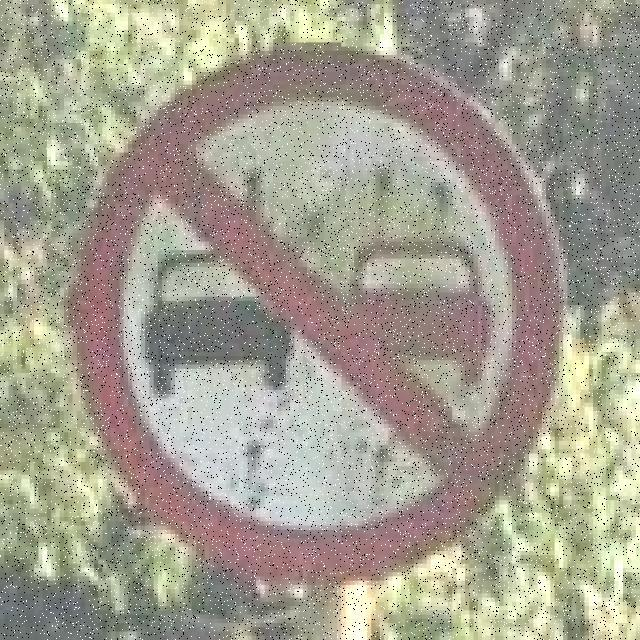Don-t-Overtracking: (53, 24, 572, 576)
